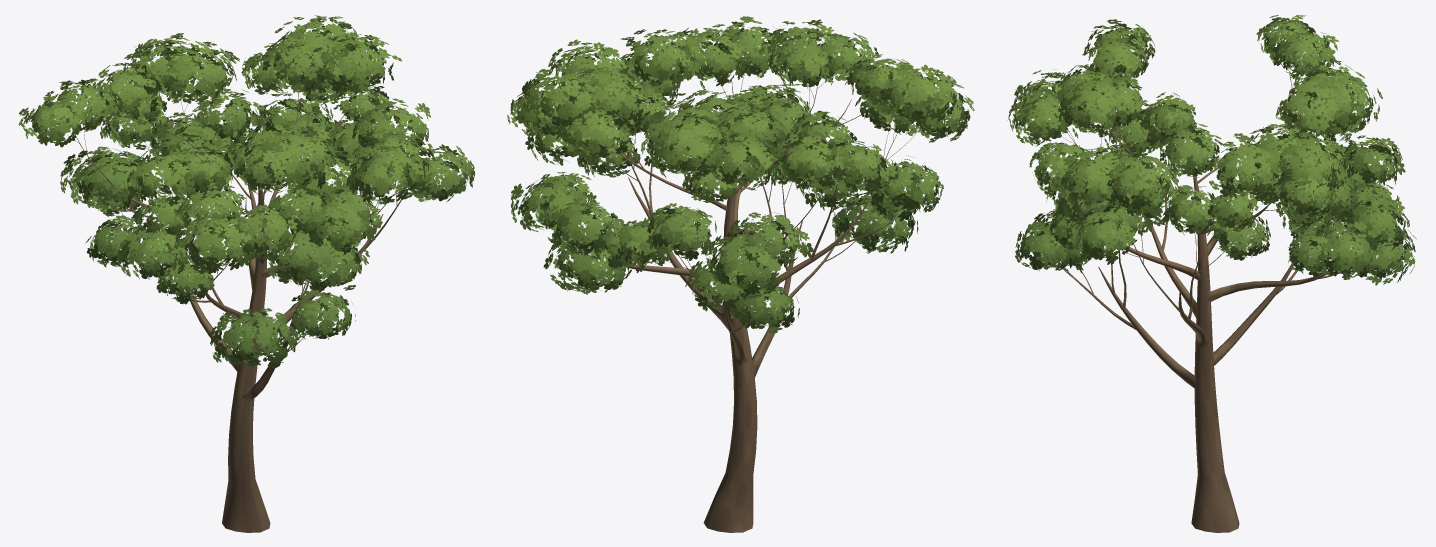
Rendered from tree.gltf.
3 views of the same model, side by side, from view 1: azimuth 30°, elevation 25°; view 2: azimuth 150°, elevation 25°; view 3: azimuth 270°, elevation 25° (orthographic). The views are drawn at different scales.
Parts seen in each view (by area): view 1: Tree_LOD0; view 2: Tree_LOD0; view 3: Tree_LOD0.
Part boxes in pixels (bbox=[...]): Tree_LOD0: bbox=[18, 15, 475, 532]; Tree_LOD0: bbox=[507, 16, 974, 532]; Tree_LOD0: bbox=[1007, 15, 1416, 532].
Bounding box in the file's own units: 18.01 × 21.5 × 18.24.
2 materials, 2 textured.
